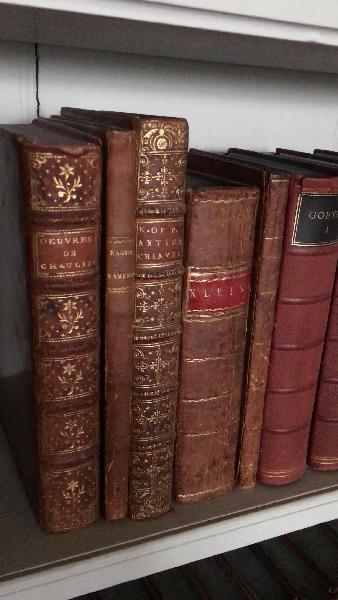Aa6-10: (239, 155, 288, 498)
Aa6-6: (20, 142, 104, 535)
Aa6-7: (101, 125, 131, 525)
Aa6-8: (130, 114, 184, 520), (185, 183, 249, 499)
